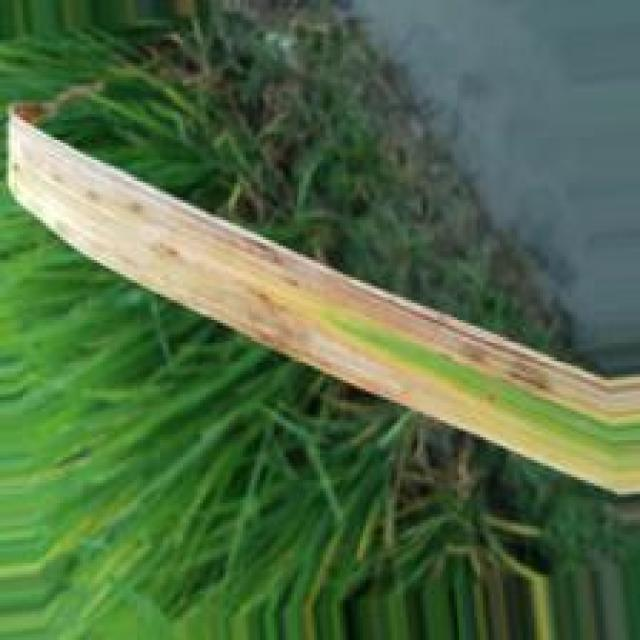Rice False Smut: (9, 112, 637, 425)
